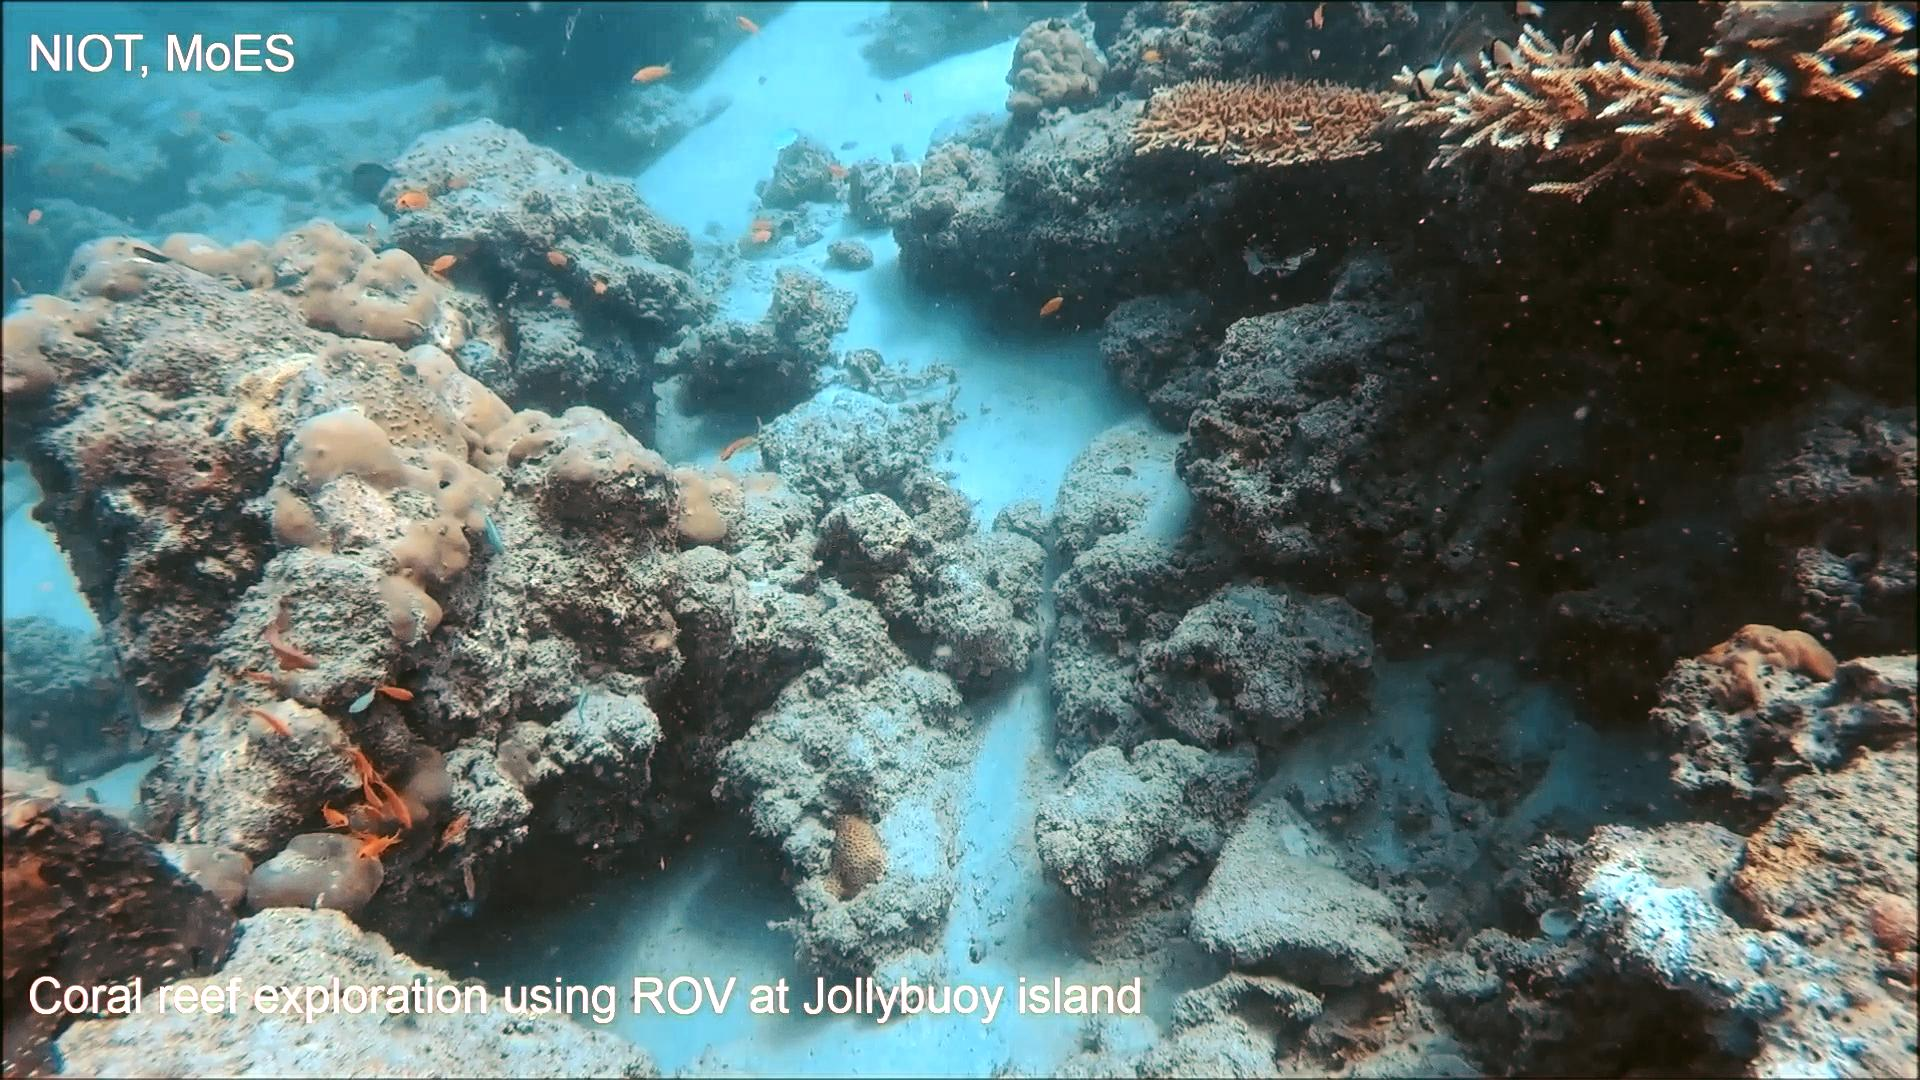Porites-Porites pukoensis: (229, 208, 571, 658)
